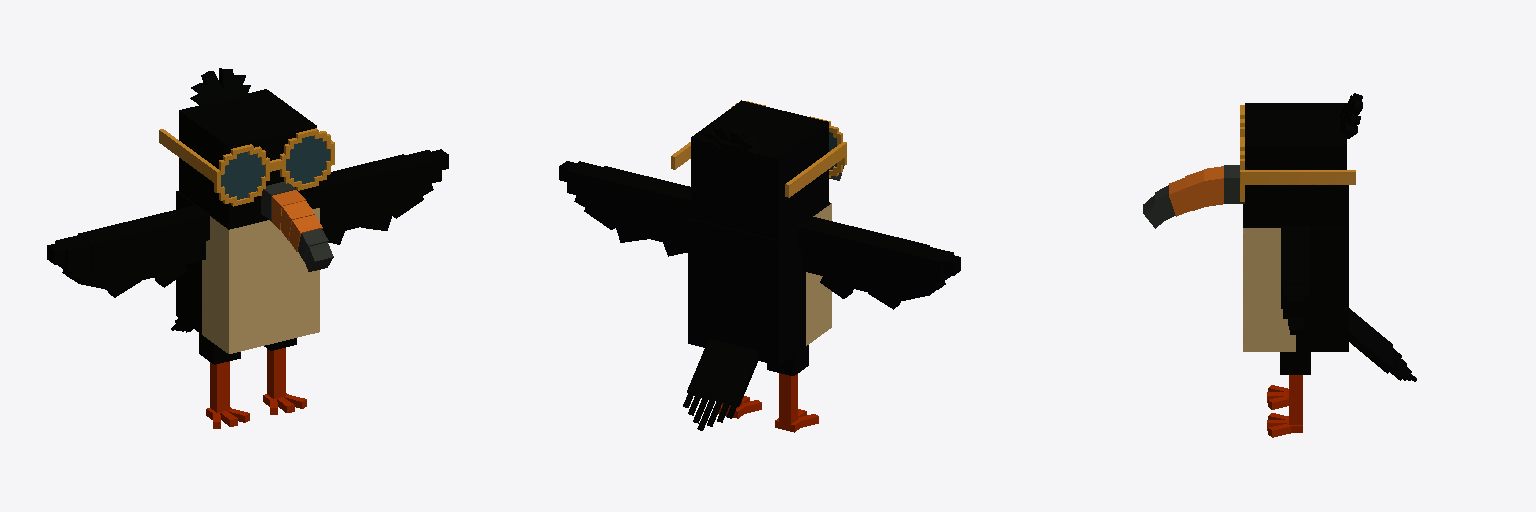
The picture shows the model from 3 angles: view 1: azimuth 30°, elevation 25°; view 2: azimuth 150°, elevation 25°; view 3: azimuth 270°, elevation 25°; orthographic projection.
Parts seen in each view (by area): view 1: Cube0031, Cube0011, Cube0021; view 2: Cube0031, Cube0011, Cube0021; view 3: Cube0031, Cube0011, Cube0021.
Part boxes in pixels (x1,y1,x2,y2): Cube0031: (47, 68, 448, 364); Cube0011: (159, 128, 334, 353); Cube0021: (206, 348, 306, 428); Cube0031: (559, 100, 960, 430); Cube0011: (671, 101, 846, 345); Cube0021: (718, 373, 818, 432); Cube0031: (1243, 93, 1416, 381); Cube0011: (1143, 105, 1355, 351); Cube0021: (1267, 375, 1302, 437).
Bounding box in the file's own units: 8.12 × 6.25 × 4.87.
3 materials, 1 textured.